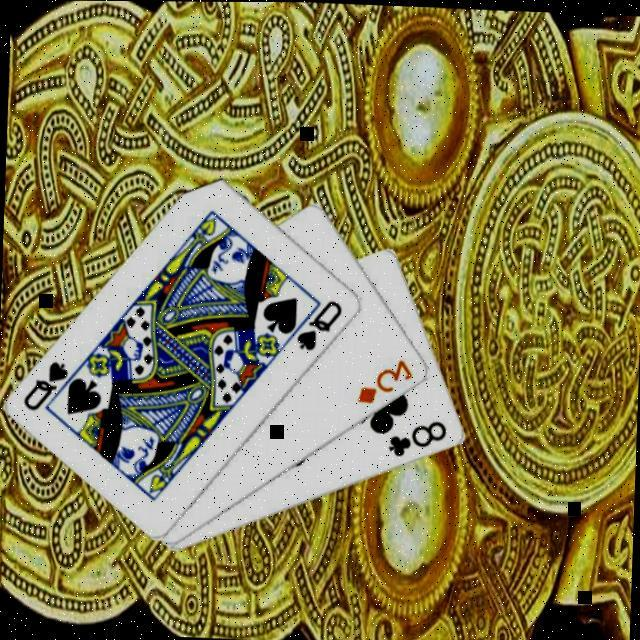3D: (354, 352, 418, 407)
8C: (387, 414, 452, 460)
QS: (296, 294, 348, 354), (22, 356, 74, 414)
